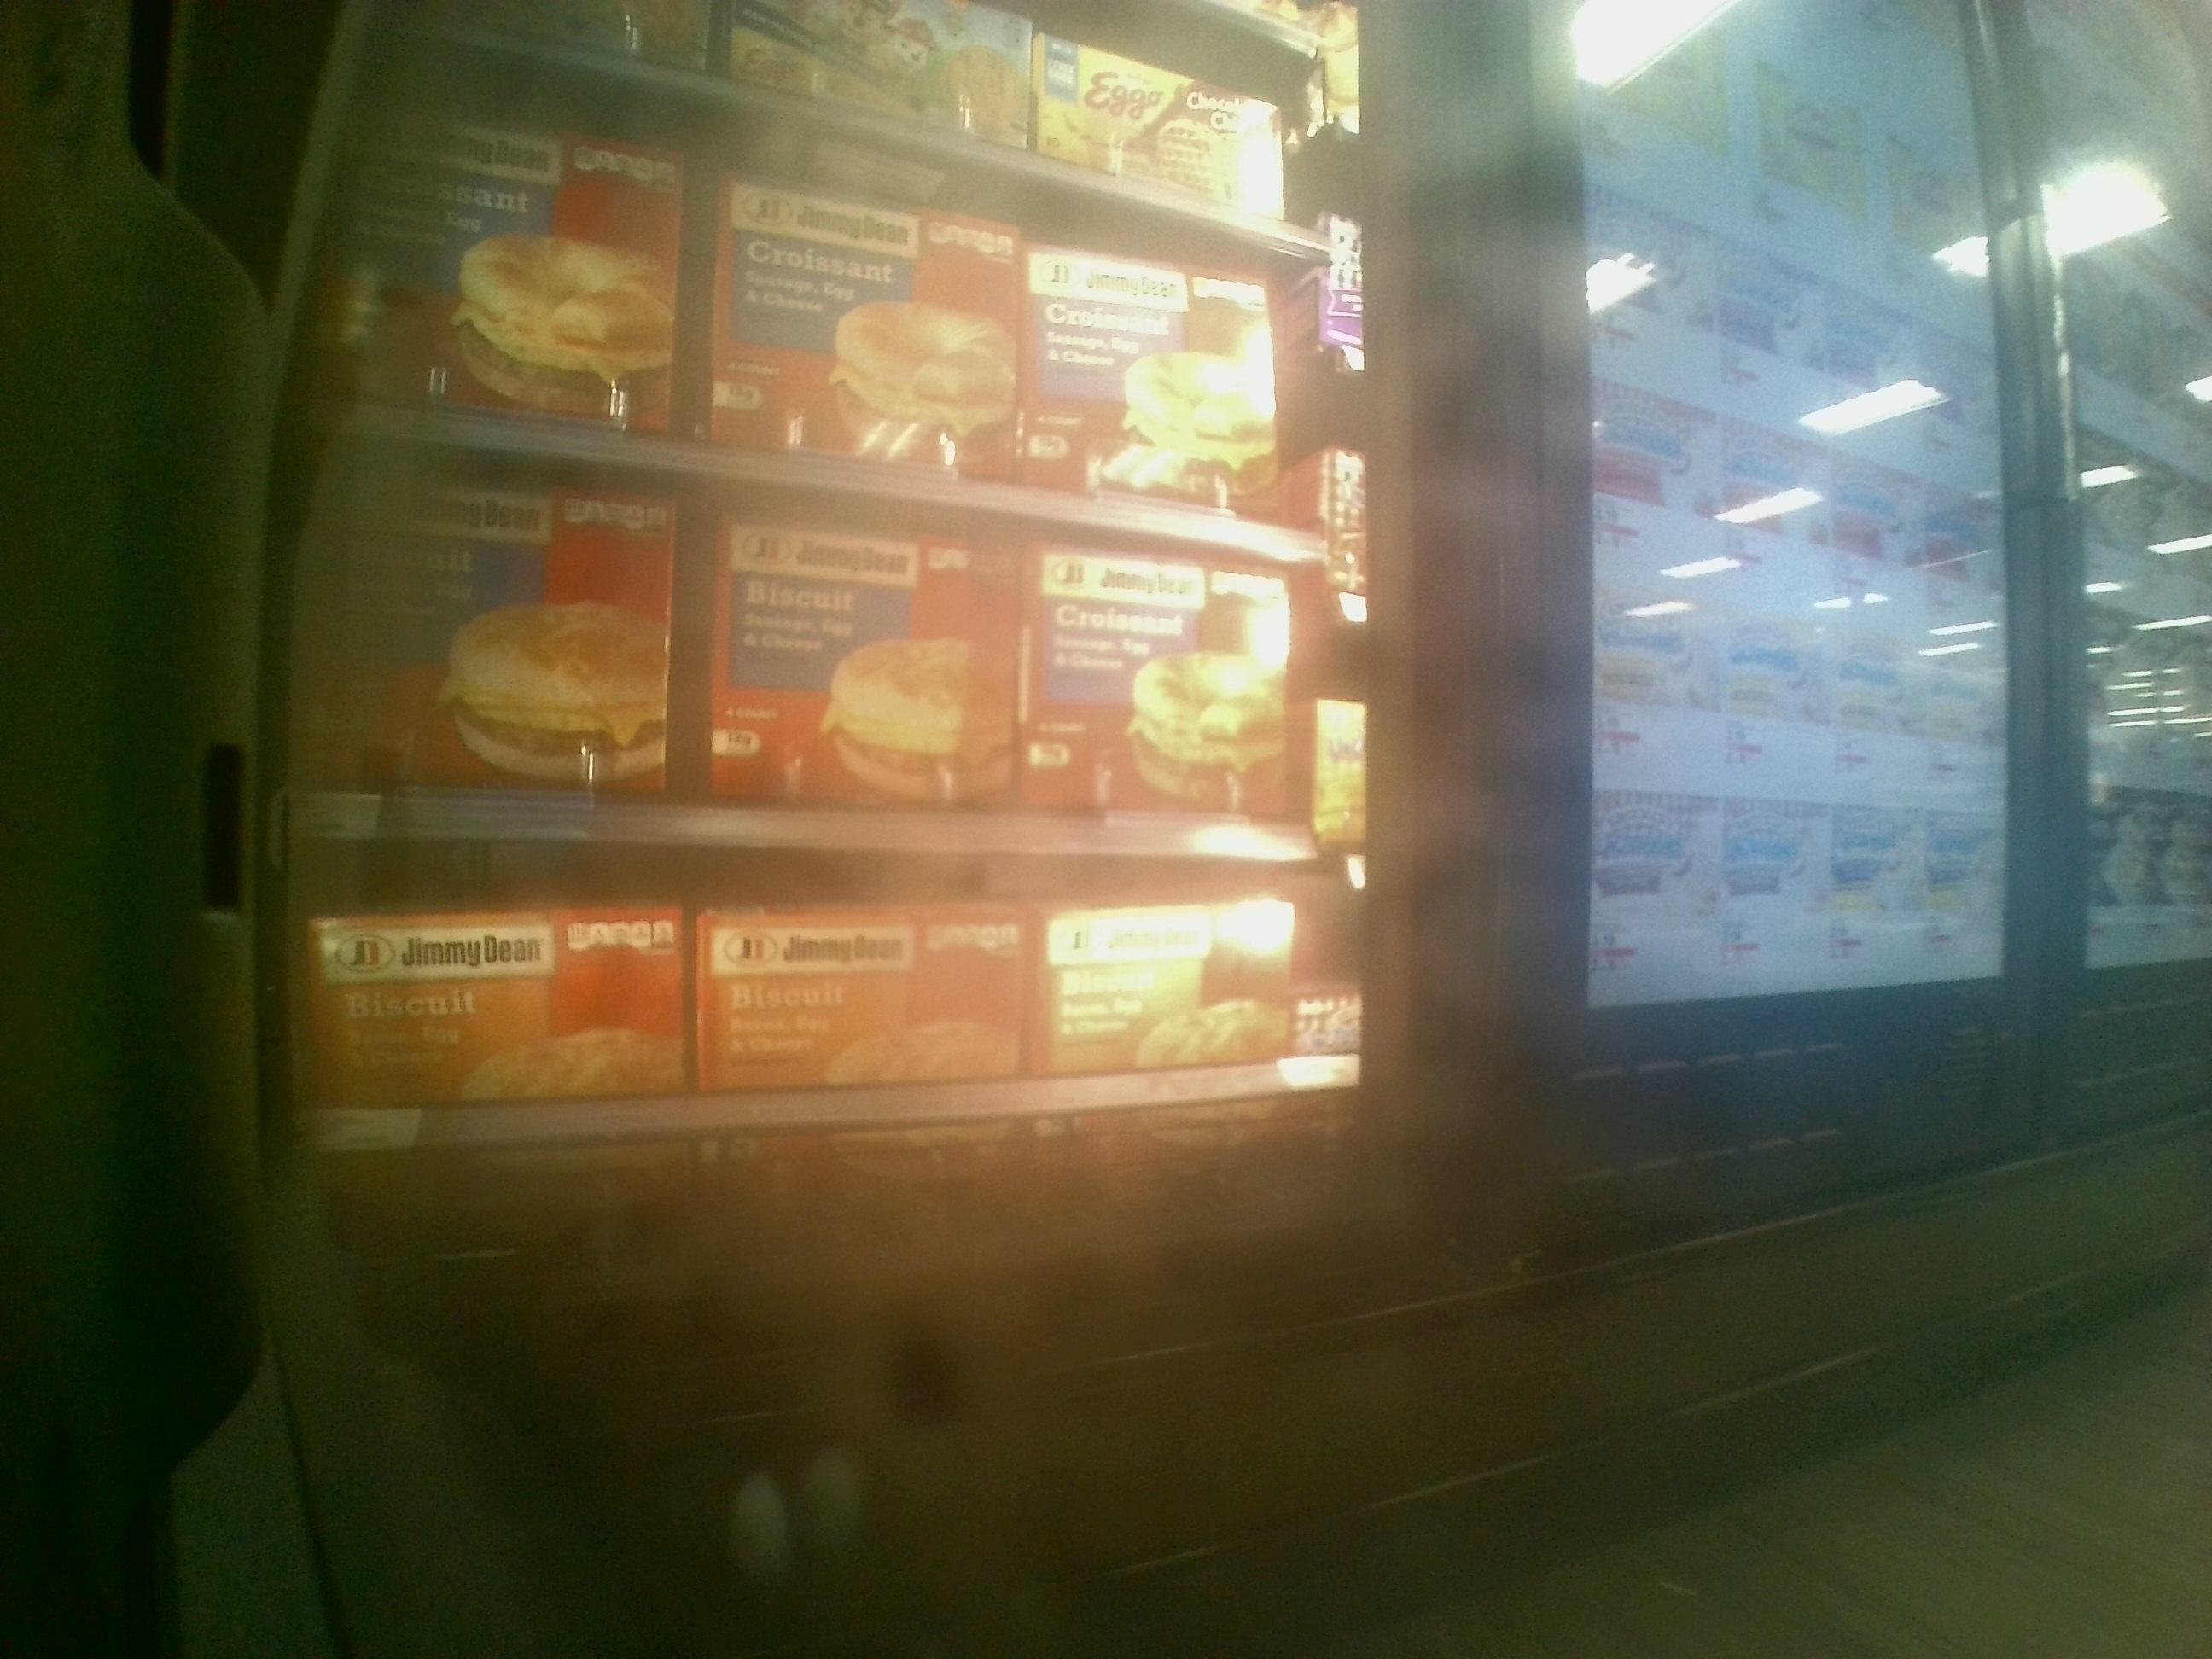shelf: (298, 842, 1372, 1223)
